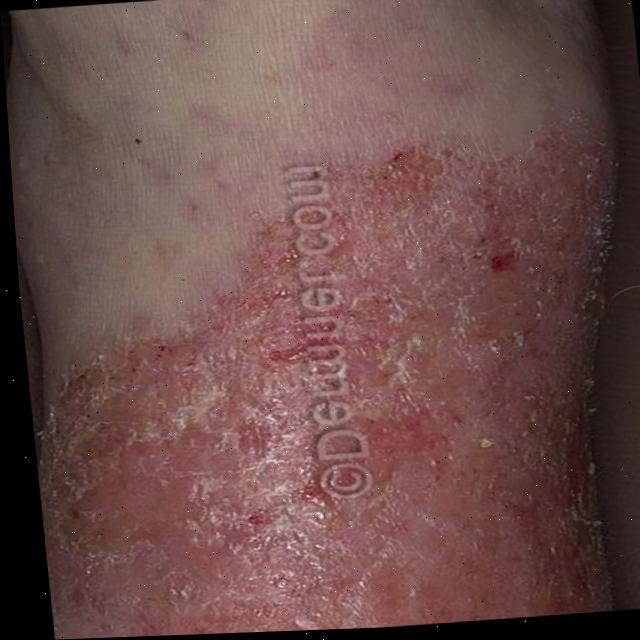Eczema: (70, 164, 601, 637)
